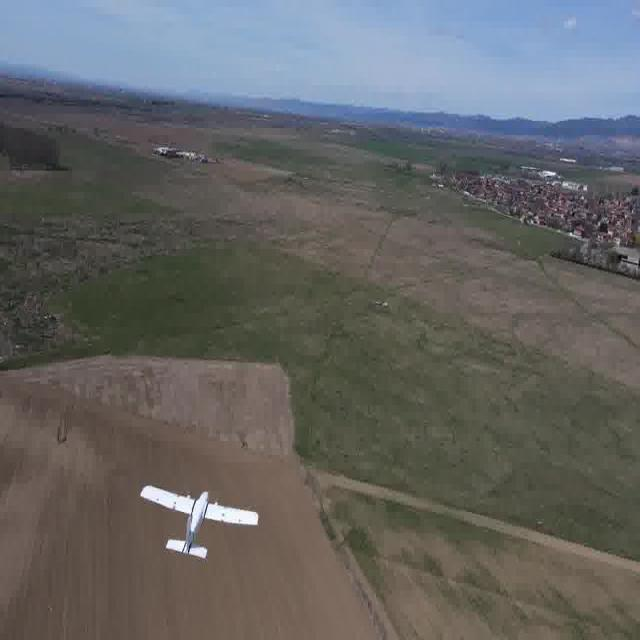iha: (162, 499, 223, 531)
